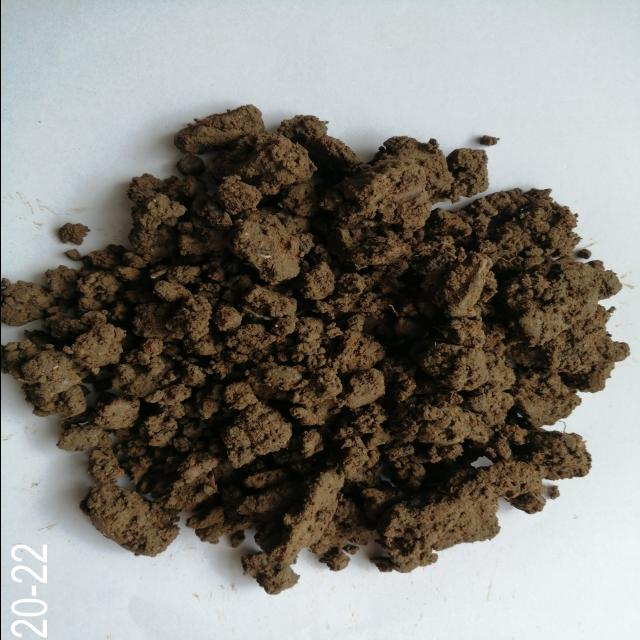soil: (120, 202, 510, 498)
